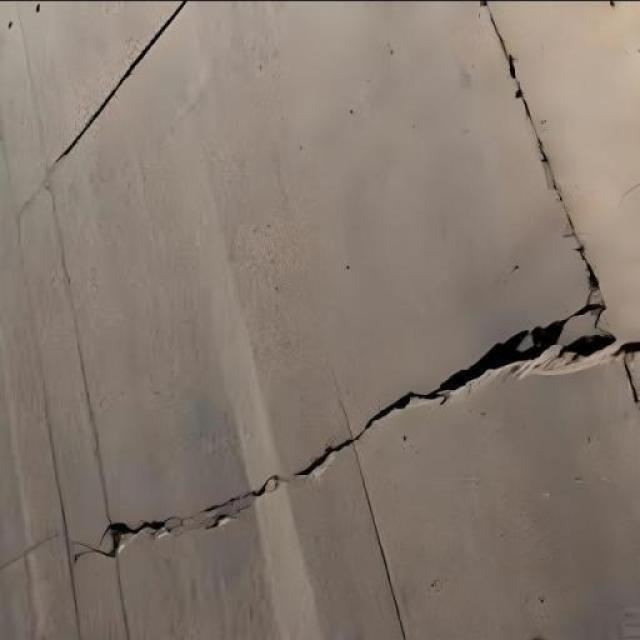moderate crack: (522, 575, 638, 637), (617, 179, 640, 206), (204, 512, 235, 528), (159, 516, 184, 533), (506, 262, 518, 274), (573, 476, 584, 484)
severe crack: (45, 191, 124, 535), (44, 3, 196, 170), (222, 187, 298, 270), (480, 4, 520, 83), (0, 529, 62, 577), (15, 175, 55, 237), (295, 441, 344, 476), (553, 474, 630, 494), (50, 136, 79, 167), (620, 352, 637, 398), (540, 159, 557, 192), (560, 222, 576, 238), (586, 270, 598, 288), (42, 176, 54, 193), (573, 242, 584, 254), (538, 151, 547, 162)
